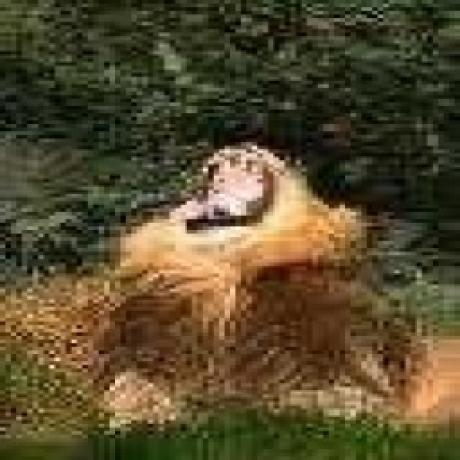Lion: (68, 123, 460, 437)
